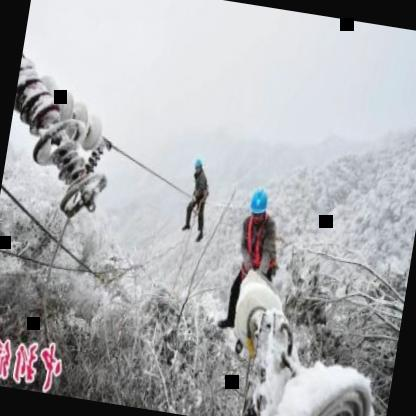helmet: (247, 186, 272, 226), (190, 156, 206, 178)
